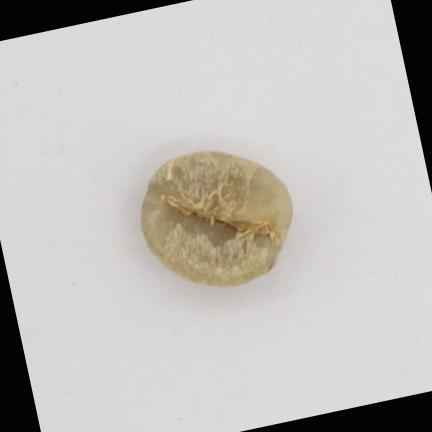husk: (142, 151, 292, 285)
